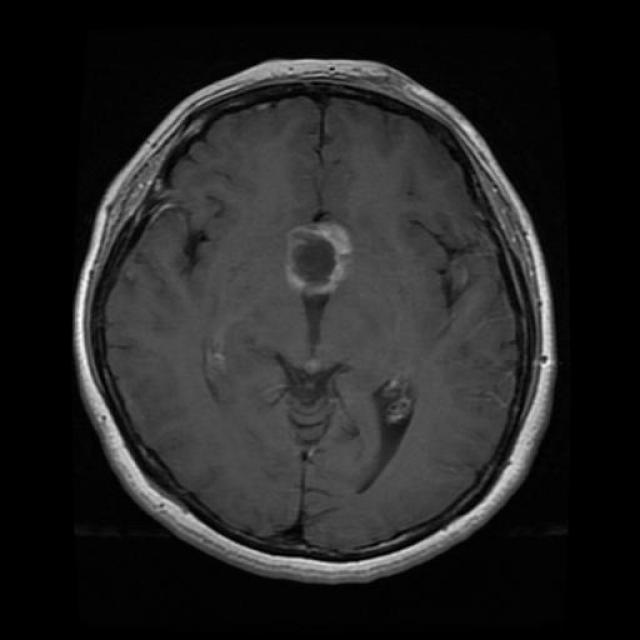Brain-Tumor: (274, 213, 363, 303)
